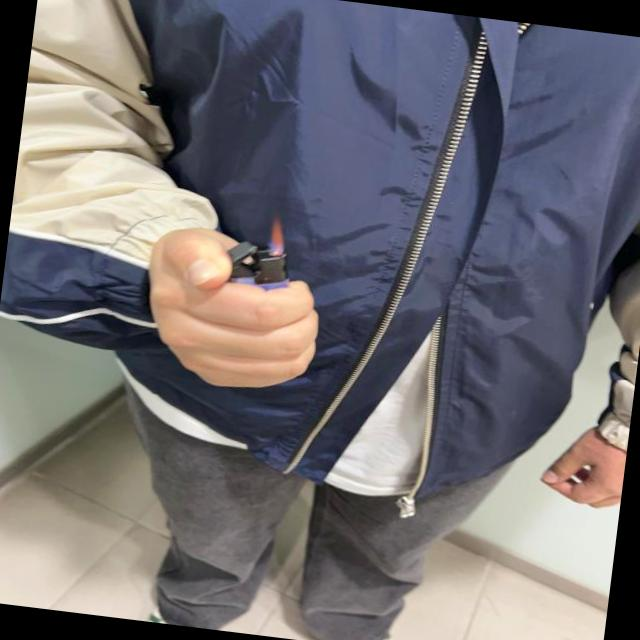fire: (268, 219, 288, 259)
